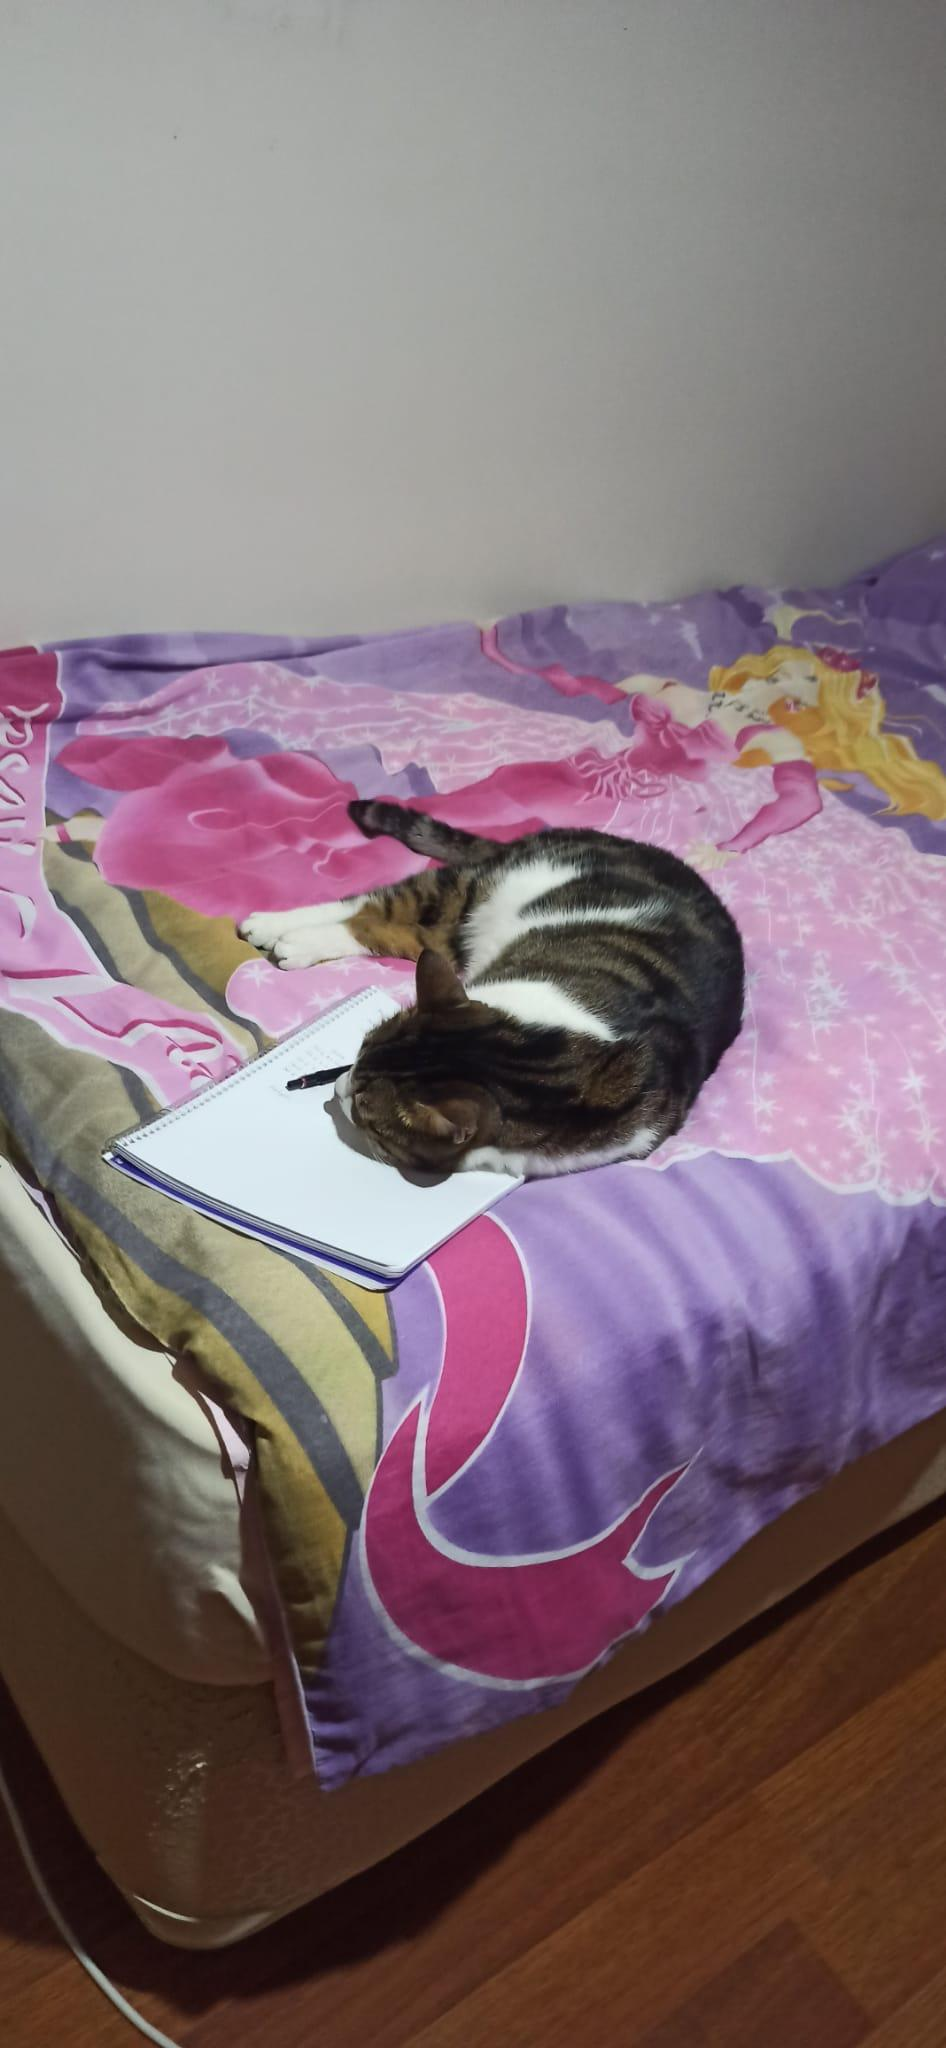kedo: (236, 792, 743, 1177)
